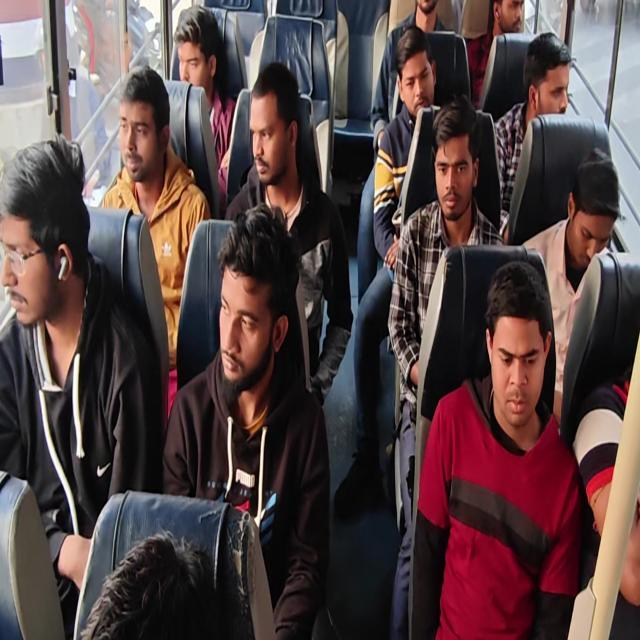person: (0, 123, 95, 346), (77, 533, 218, 640), (216, 210, 296, 388), (479, 261, 556, 435), (111, 59, 175, 215), (242, 58, 304, 191), (429, 99, 484, 225), (566, 146, 622, 264), (527, 28, 582, 136), (385, 24, 442, 121), (176, 0, 223, 91), (486, 1, 530, 31), (412, 0, 447, 12)
